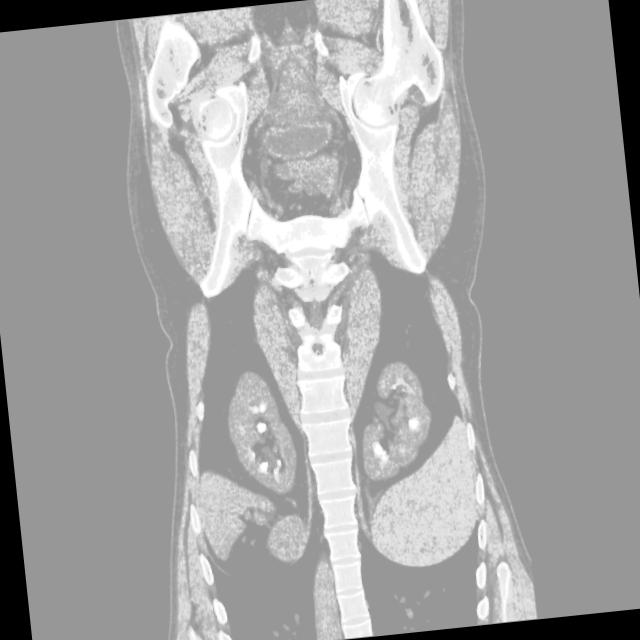STONE: (201, 342, 470, 504)
